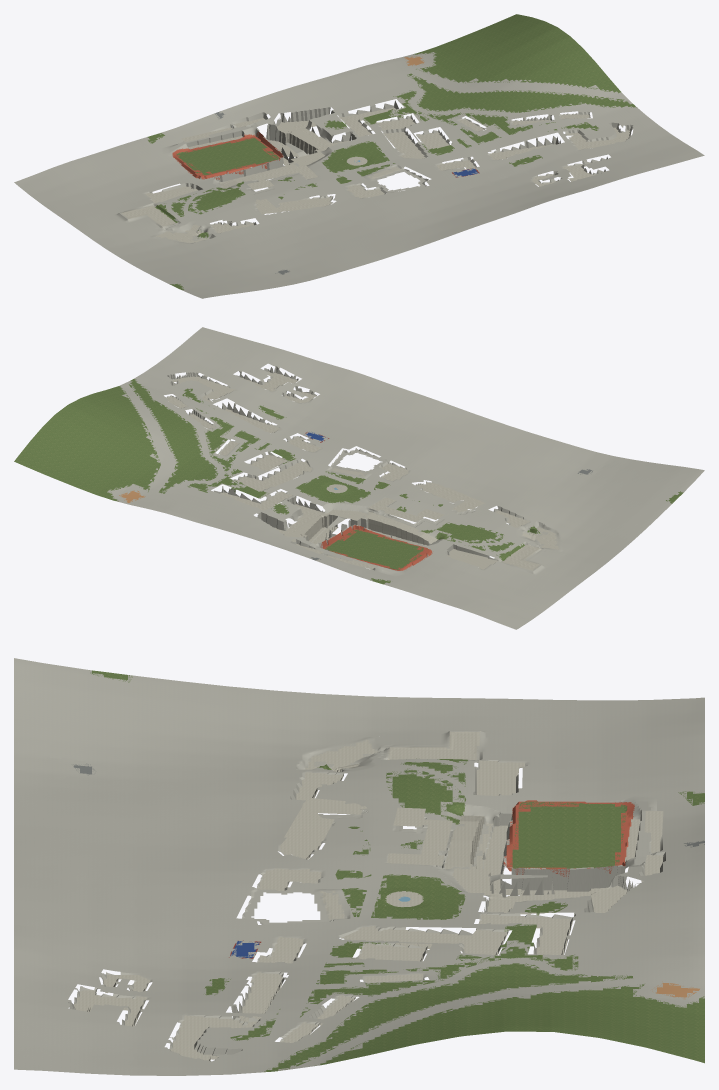
3 views of the same model, one above another, from view 1: azimuth 30°, elevation 25°; view 2: azimuth 150°, elevation 25°; view 3: azimuth 270°, elevation 25° (orthographic). The views are drawn at different scales.
Parts seen in each view (by area): view 1: ssu-base, ssu-wood, ssu-paving, ssu-grass, ssu-pitchTurf, ssu-wood-overlay, ssu-track, ssu-grass-overlay, ssu-pitchTurfB-overlay; view 2: ssu-base, ssu-wood, ssu-paving, ssu-grass, ssu-pitchTurf, ssu-wood-overlay, ssu-track, ssu-grass-overlay, ssu-pitchTurfB-overlay; view 3: ssu-base, ssu-paving, ssu-wood, ssu-grass, ssu-pitchTurf, ssu-wood-overlay, ssu-track, ssu-grass-overlay, ssu-pitchTurfB-overlay.
Part boxes in pixels (x1,y1,x2,y2): ssu-base: (14,52,704,298); ssu-wood: (148,14,635,186); ssu-paving: (121,107,631,243); ssu-grass: (155,109,454,289); ssu-pitchTurf: (176,138,278,173); ssu-wood-overlay: (148,53,637,189); ssu-track: (172,132,283,178); ssu-grass-overlay: (164,109,454,289); ssu-pitchTurfB-overlay: (182,139,278,173); ssu-base: (107,327,704,629); ssu-wood: (14,379,433,584); ssu-paving: (166,371,558,570); ssu-grass: (231,449,683,560); ssu-pitchTurf: (325,530,420,569); ssu-wood-overlay: (108,381,435,584); ssu-track: (322,525,431,570); ssu-grass-overlay: (231,449,680,558); ssu-pitchTurfB-overlay: (327,531,423,567); ssu-base: (14,658,704,1075); ssu-paving: (74,732,663,1060); ssu-wood: (206,791,704,1071); ssu-grass: (92,670,566,958); ssu-pitchTurf: (512,804,626,868); ssu-wood-overlay: (204,791,704,1072); ssu-track: (503,800,634,871); ssu-grass-overlay: (90,672,567,960); ssu-pitchTurfB-overlay: (516,805,620,866).
Size of the model in its own units: 708 by 86.92 by 460.
Materials: 20 (12 with a texture image).
